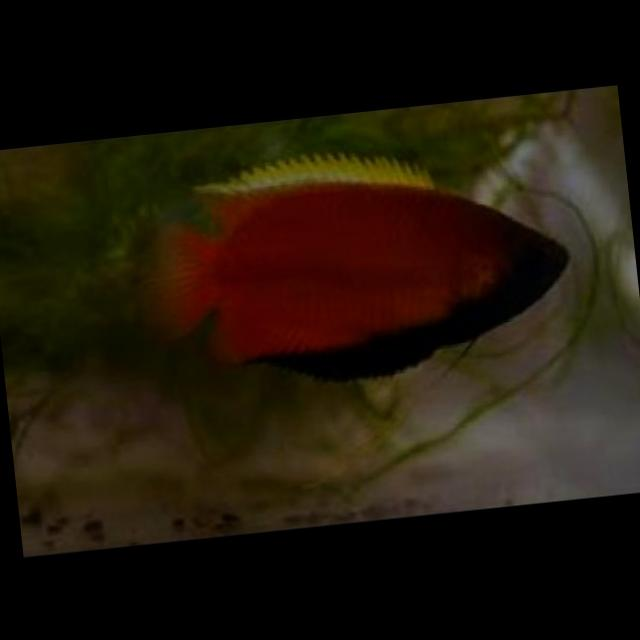Gourami: (122, 128, 581, 406)
